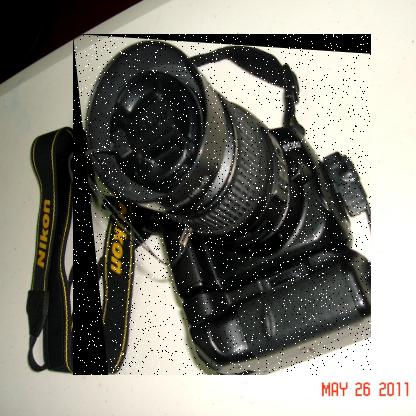Camera: (74, 35, 373, 377)
